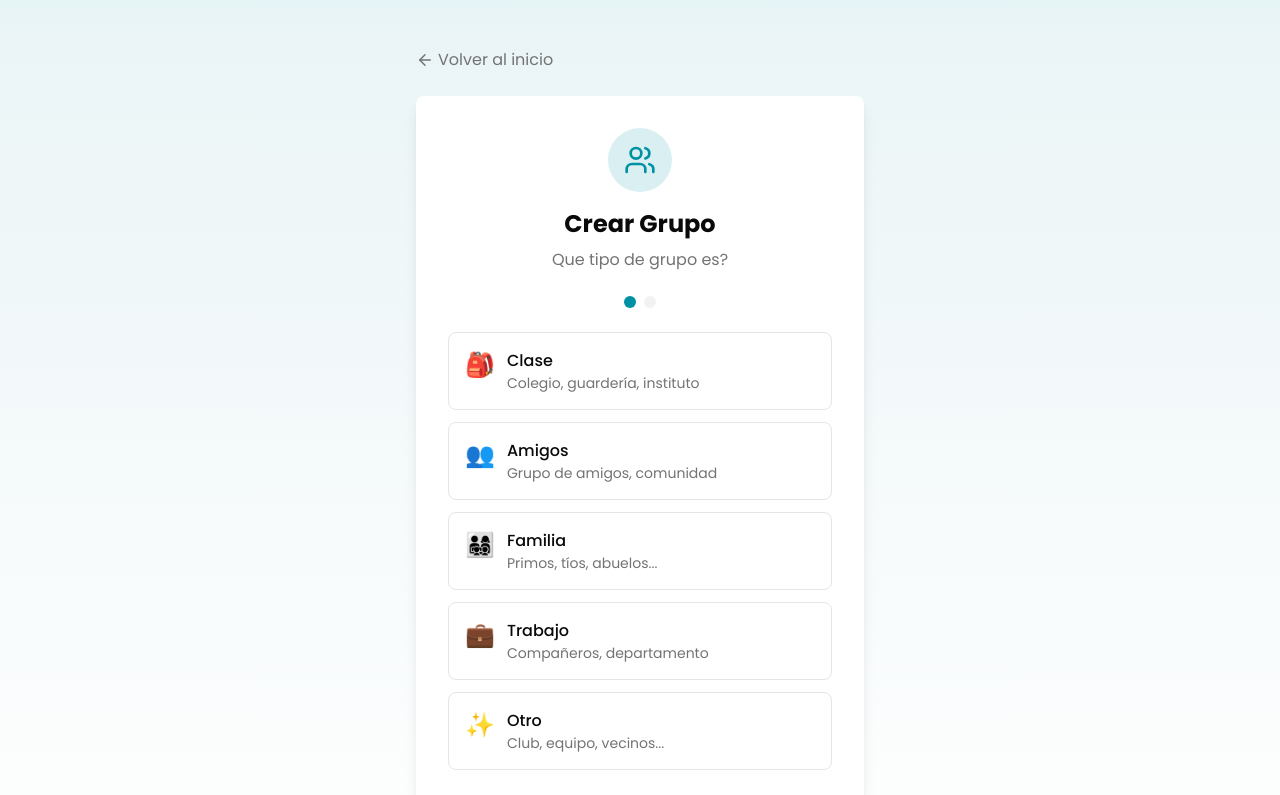
it: CreateGroupPage › Step 1: Group Type Selection › avanza al paso 2 al seleccionar tipo Clase
The image size is (1280, 795).
Click the text "Clase" at (530, 360), box [507,349,553,372]
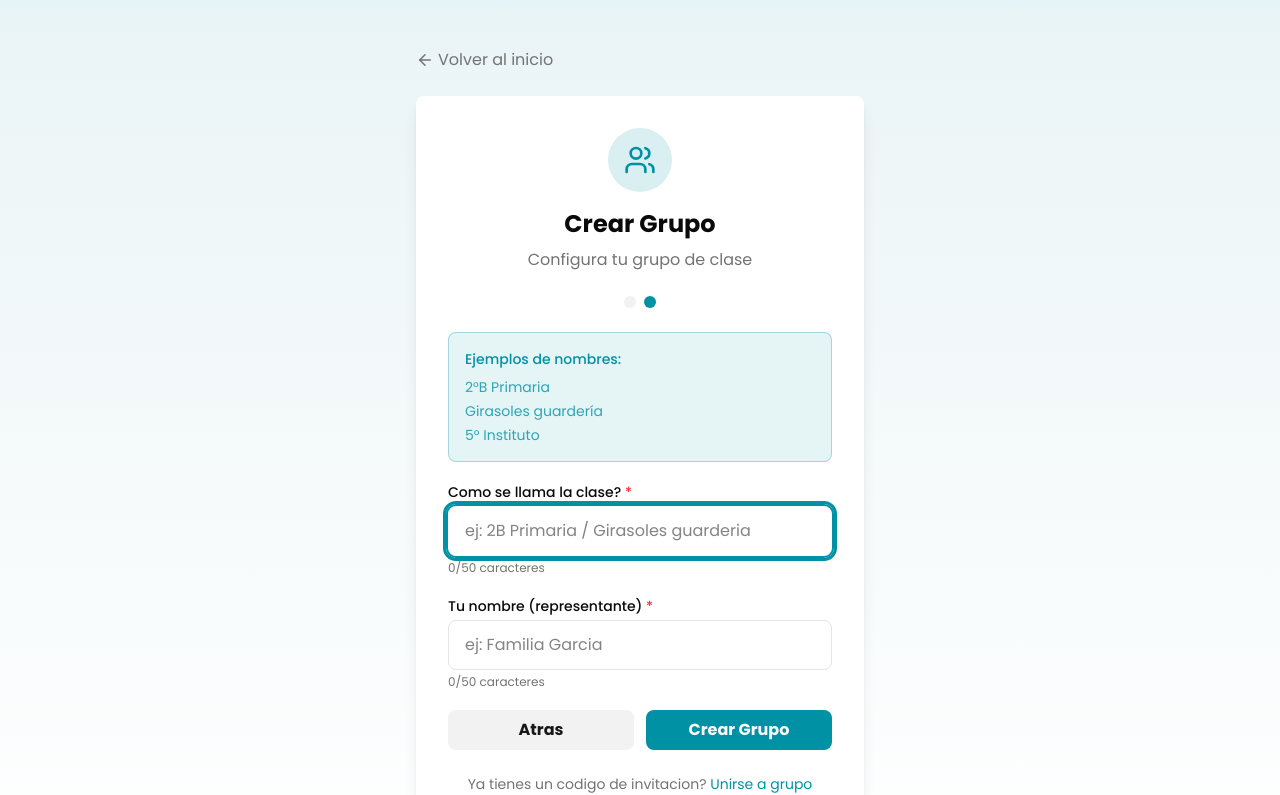
expect the text "Configura tu grupo de clase" is shown: met, box [528,248,752,271]
expect the text "Como se llama la clase? *" is shown: met, box [448,482,632,502]
